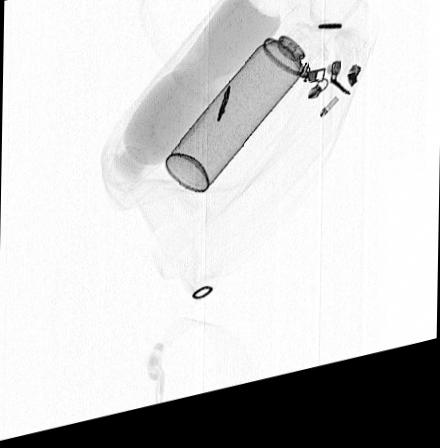Sprayer: (164, 18, 334, 201)
